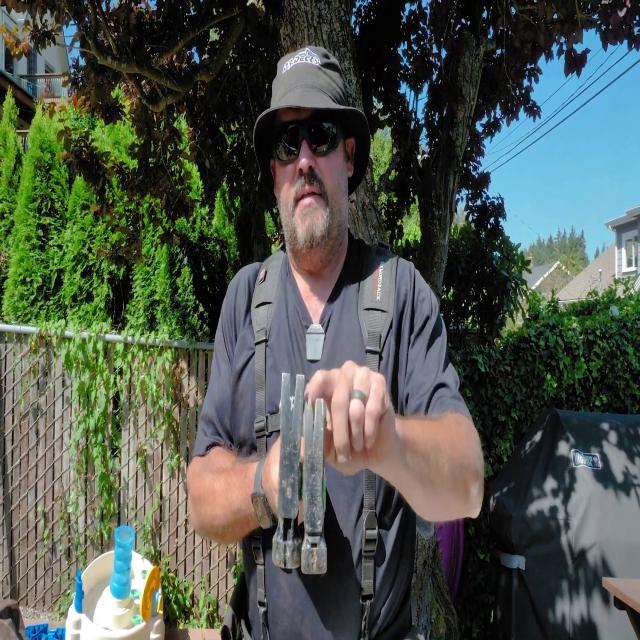hammer: (272, 373, 305, 570), (301, 397, 327, 574)
